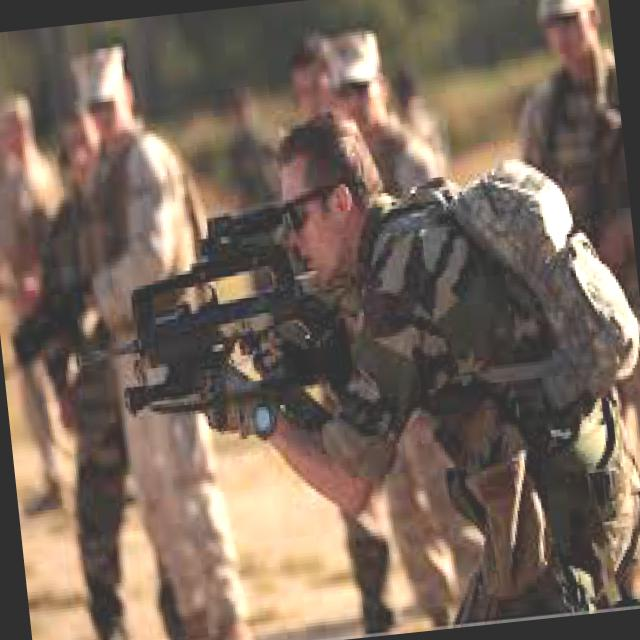long weapon: (99, 194, 308, 450)
